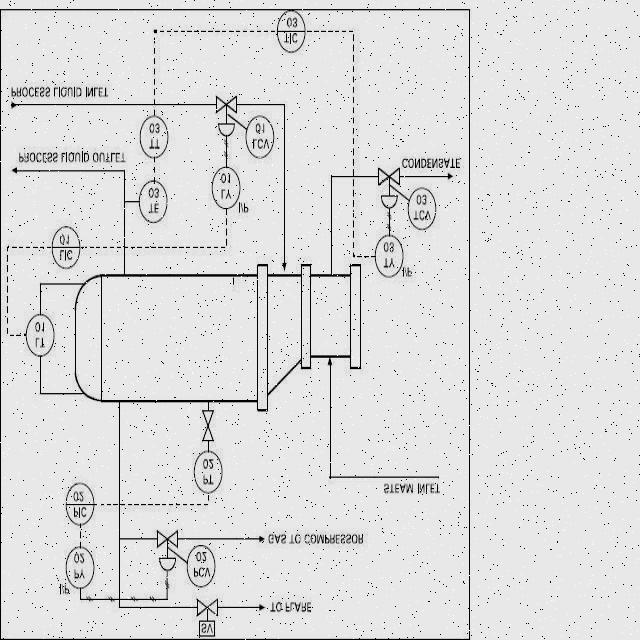Gate Valve: (195, 404, 226, 445)
Pneumatic-Diaphragm Gate Valve: (212, 86, 244, 143), (154, 522, 182, 576), (375, 164, 403, 217)
Solenoid Operated Gate Valve: (192, 593, 226, 640)
